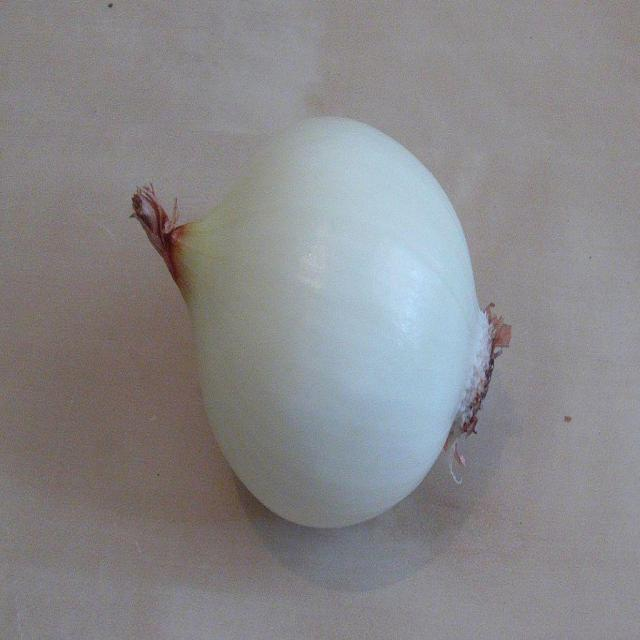Onion: (128, 111, 513, 528)
